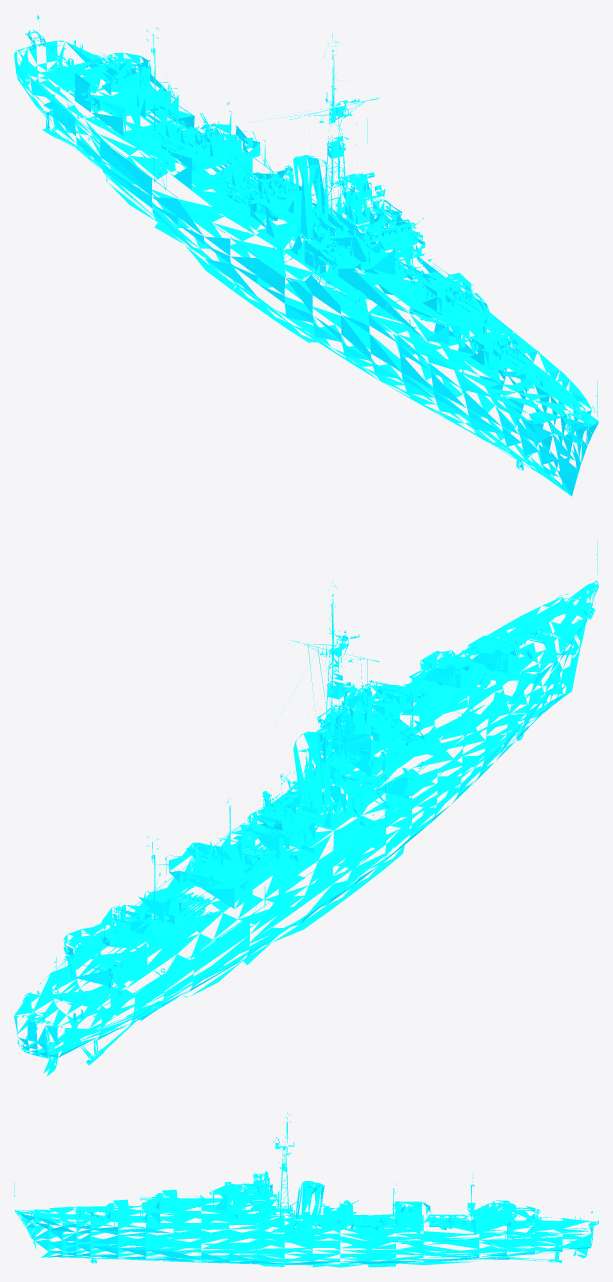
File: PBSD519.glb
3 renders of one model, top to bottom at view 1: azimuth 30°, elevation 25°; view 2: azimuth 150°, elevation 25°; view 3: azimuth 270°, elevation 25°, orthographic. The views are drawn at different scales.
Parts seen in each view (by area): view 1: hull, turret; view 2: hull, turret; view 3: hull, turret.
Part boxes in pixels (x1,y1,x2,y2): hull: (14,15,598,496); turret: (95,53,527,368); hull: (14,540,598,1076); turret: (93,630,527,947); hull: (14,1112,598,1267); turret: (91,1182,531,1219).
Size of the model in its own units: 0.8192 by 2.32 by 7.79.
